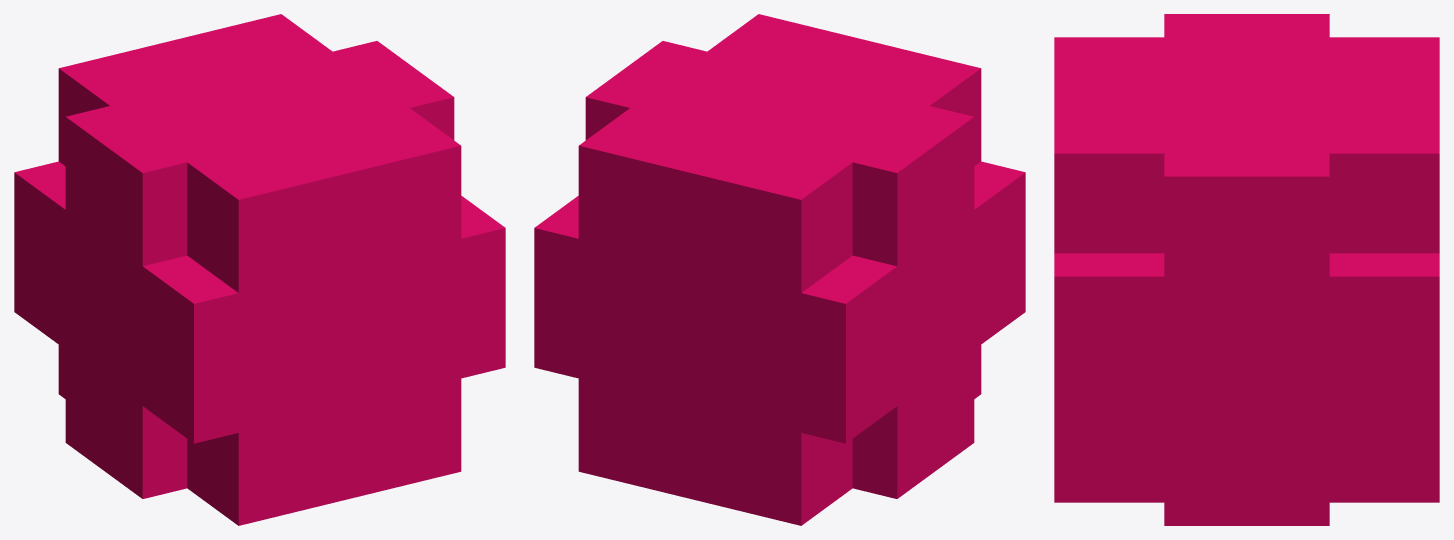
Rendered from ball1.dae.
3 views of the same model, side by side, from view 1: azimuth 30°, elevation 25°; view 2: azimuth 150°, elevation 25°; view 3: azimuth 270°, elevation 25° (orthographic). The views are drawn at different scales.
Parts seen in each view (by area): view 1: Matrix; view 2: Matrix; view 3: Matrix.
Part boxes in pixels (<box>): Matrix: <box>14,14,505,525</box>; Matrix: <box>534,14,1025,525</box>; Matrix: <box>1054,14,1439,525</box>.
Size of the model in its own units: 7 by 7 by 7.
